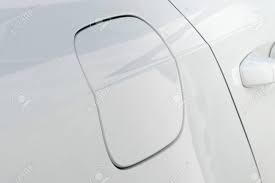closed: (69, 10, 189, 170)
